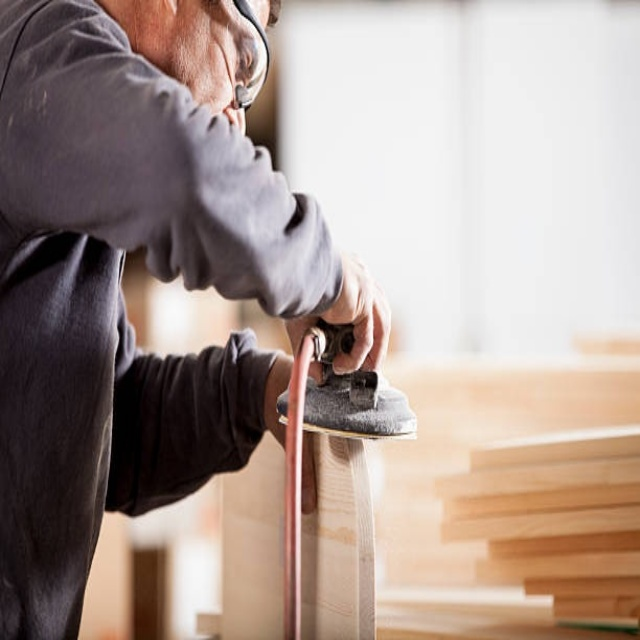Gafas: (224, 0, 271, 110)
Sin_guantes: (284, 246, 390, 377)
